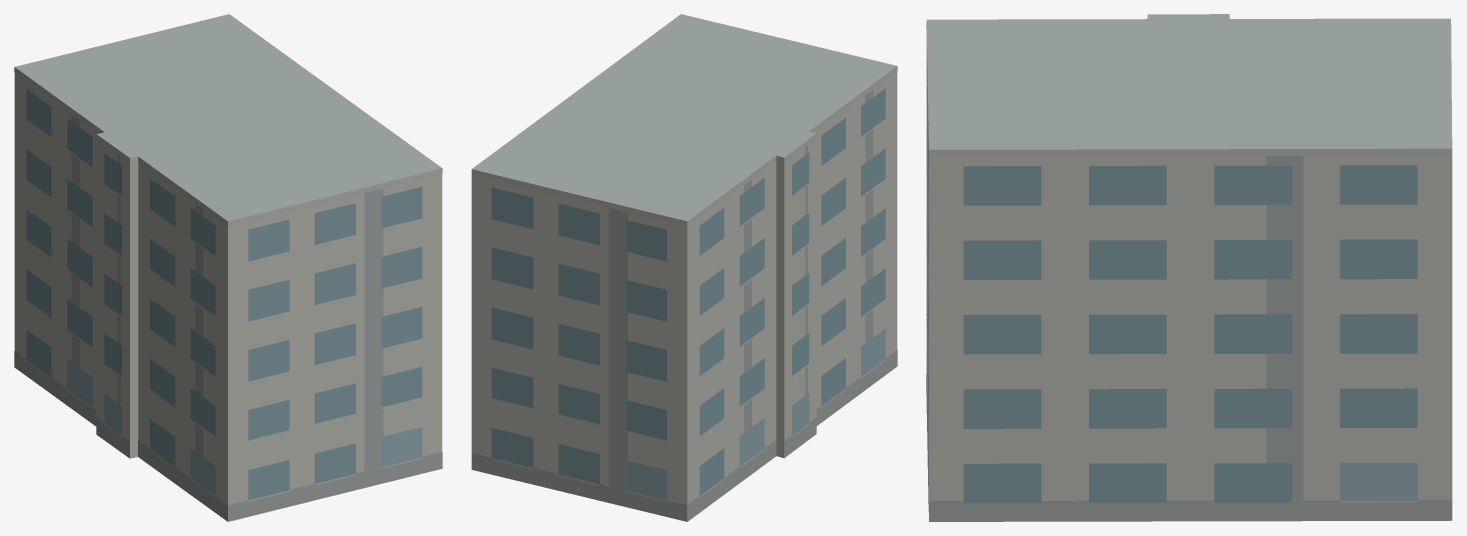
File: survey-upis-32928859.glb
3 views of the same model, side by side, from view 1: azimuth 30°, elevation 25°; view 2: azimuth 150°, elevation 25°; view 3: azimuth 270°, elevation 25° (orthographic). The views are drawn at different scales.
Visible parts, largest first — view 1: survey-upis-32928859.tmp; view 2: survey-upis-32928859.tmp; view 3: survey-upis-32928859.tmp.
Boxes of the visible parts, x1,y1,x2,y2 form: survey-upis-32928859.tmp: (14, 14, 442, 521); survey-upis-32928859.tmp: (471, 14, 897, 521); survey-upis-32928859.tmp: (926, 14, 1452, 521).
Bounding box in the file's own units: 10.38 × 13.25 × 16.98.
